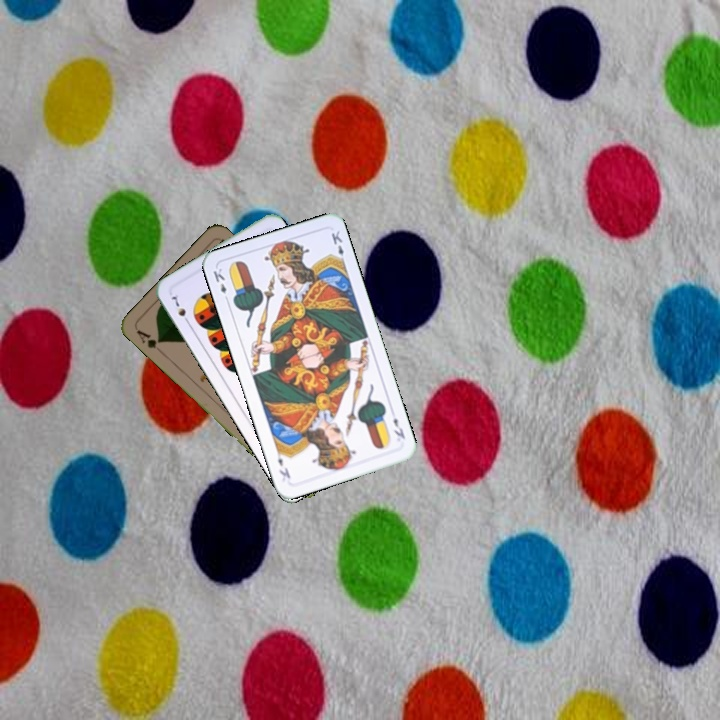EK: (209, 264, 231, 305), (389, 414, 408, 441)
GA: (132, 325, 165, 357)
S7: (168, 290, 192, 327)
